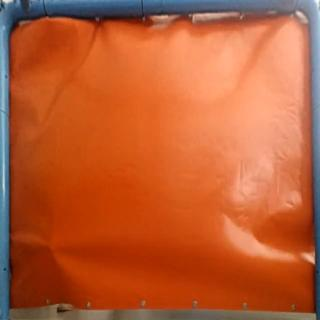Hit-hRxx: (45, 241, 59, 256)
